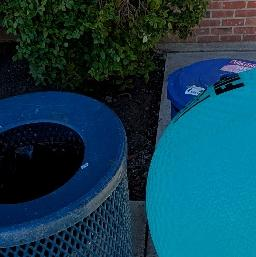algae: (147, 63, 256, 257)
